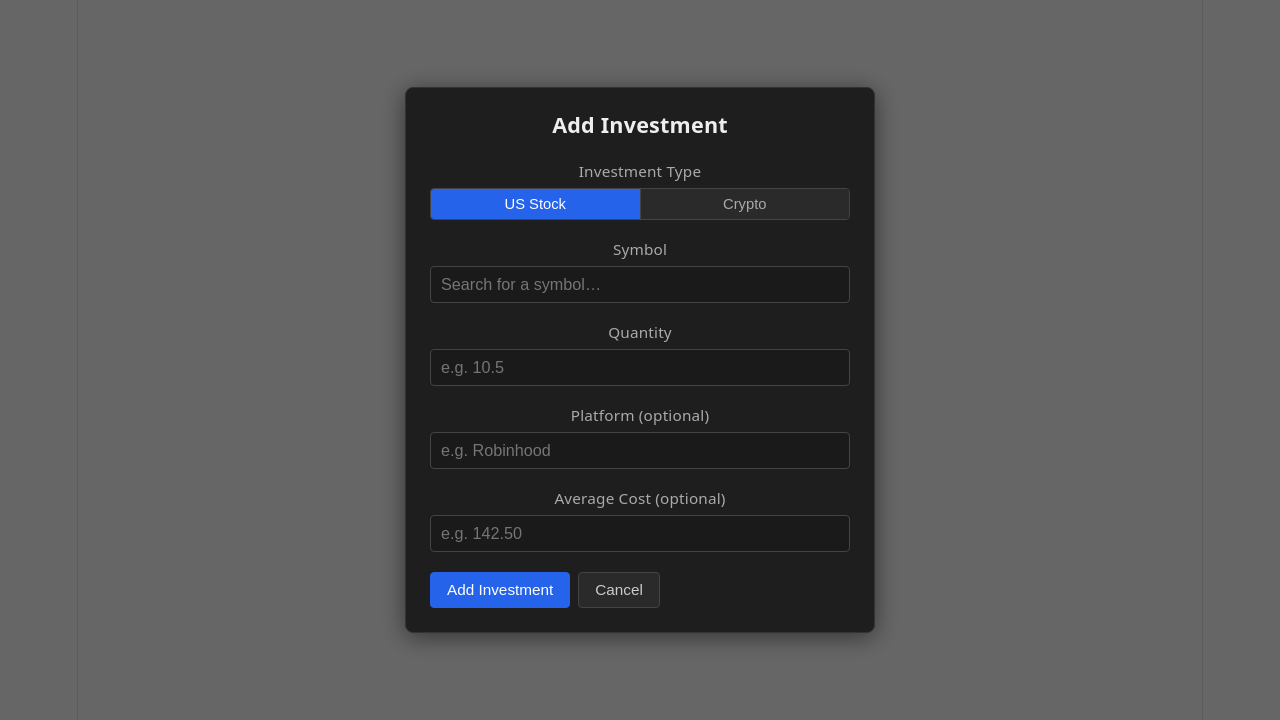
Test: AddStockForm › Validation error display (Req 8.3) › shows error when symbol is blank
Click the button "Add Investment".
click(500, 590)  # box [430,572,570,608]
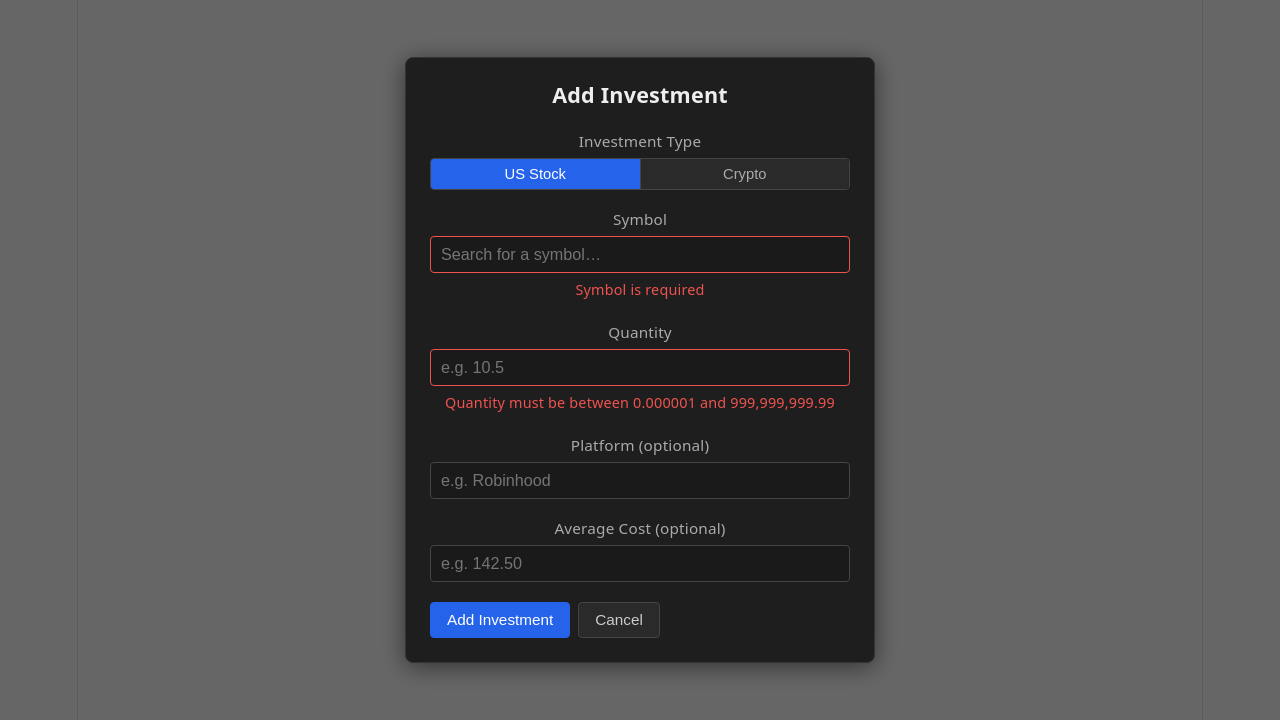
expect the text "Symbol is required" is shown: met, box [575,280,705,299]
